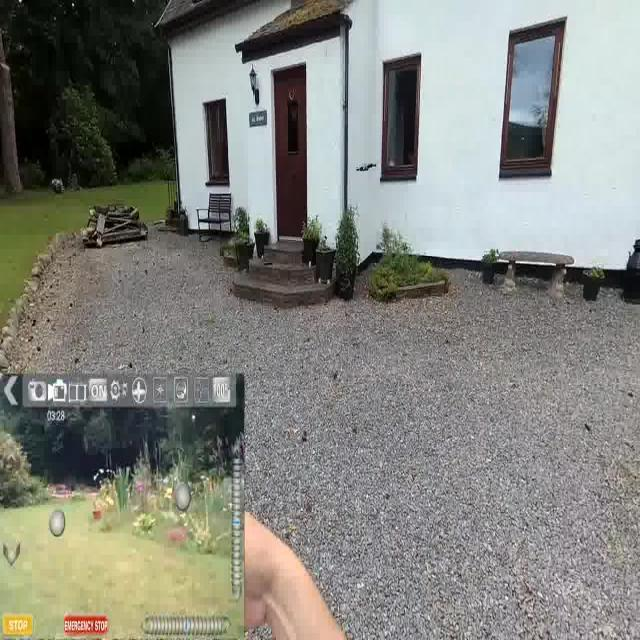drones: (357, 154, 380, 174)
